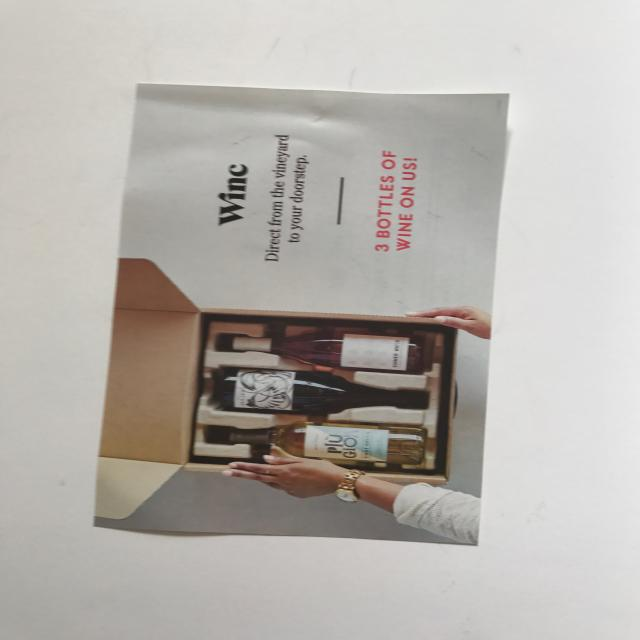paper: (83, 70, 524, 557)
